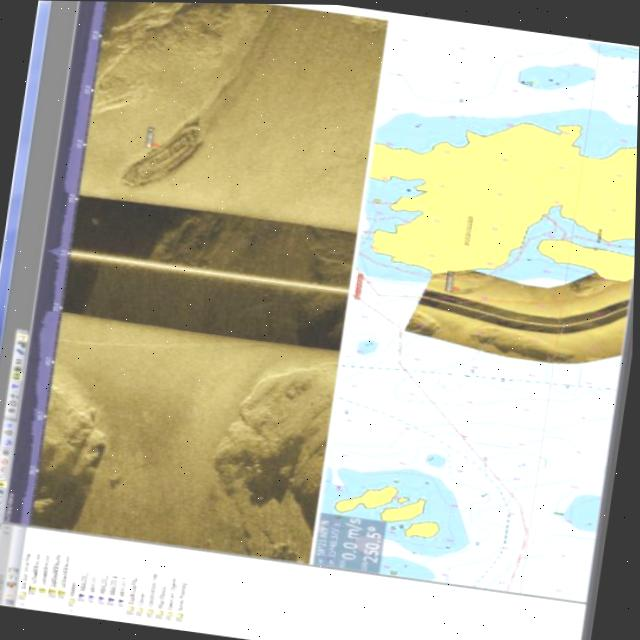shipwreck: (110, 116, 209, 198)
